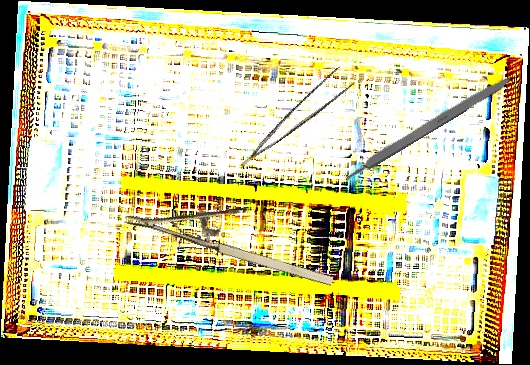Needle Holder: (123, 172, 346, 293)
Scalpel Handle: (341, 70, 516, 183)
Tissue Forceps: (226, 62, 361, 168)
